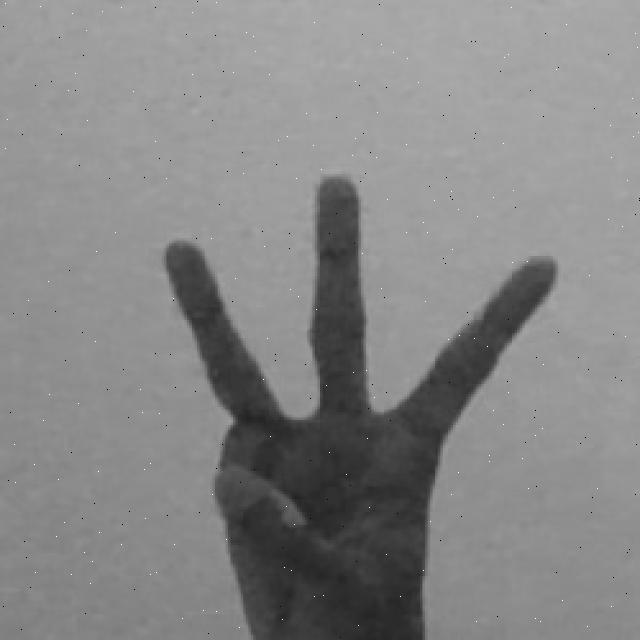W: (158, 166, 566, 640)
